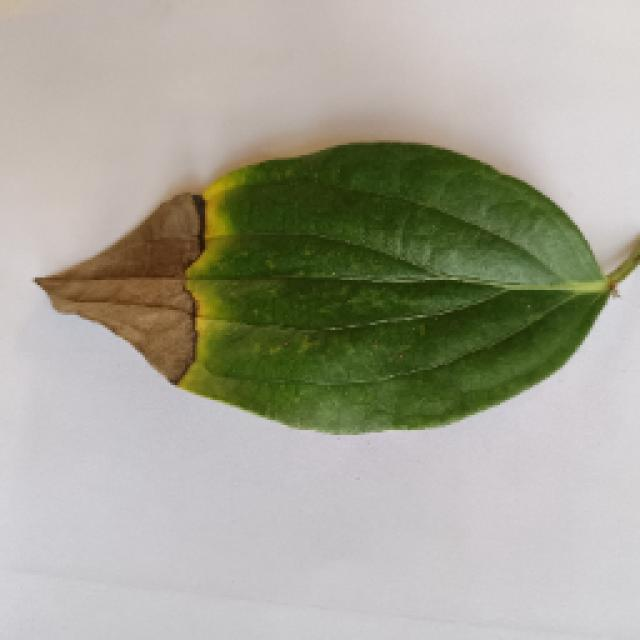footrot: (20, 125, 630, 437)
